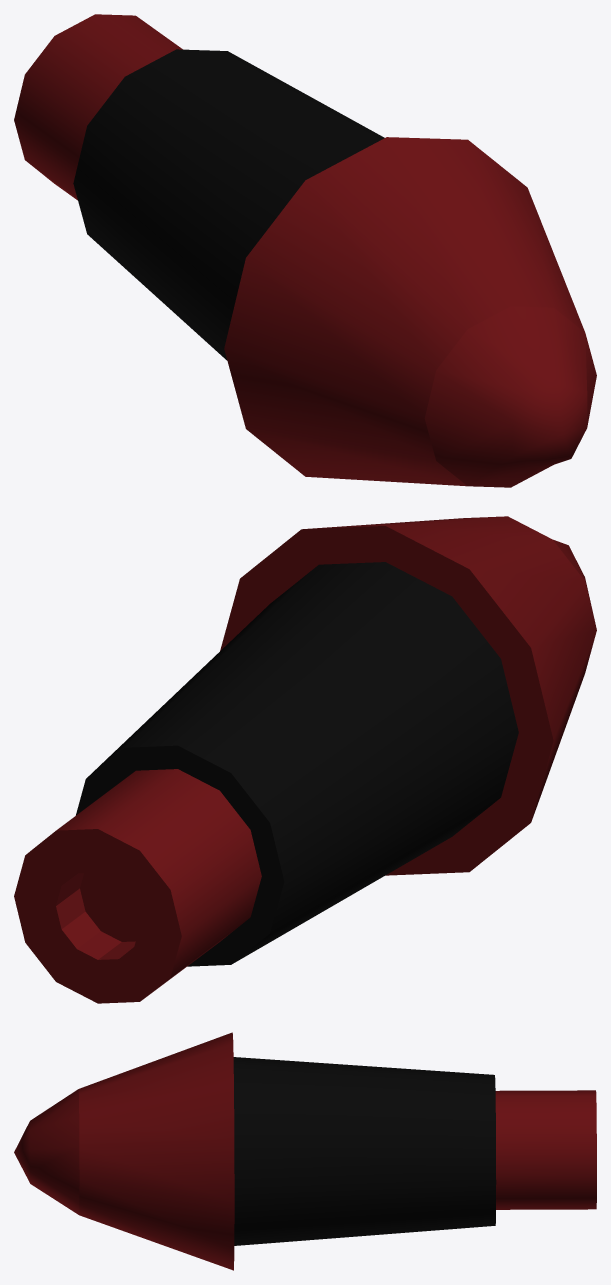
File: ROCKET_GUN_BULLET_00I.fbx
The picture shows the model from 3 angles, top to bottom: view 1: azimuth 30°, elevation 25°; view 2: azimuth 150°, elevation 25°; view 3: azimuth 270°, elevation 25°; orthographic projection. The views are drawn at different scales.
Parts seen in each view (by area): view 1: ROCKET_GUN_BULLET_00I; view 2: ROCKET_GUN_BULLET_00I; view 3: ROCKET_GUN_BULLET_00I.
Part boxes in pixels (x1,y1,x2,y2): ROCKET_GUN_BULLET_00I: (14,14,596,487); ROCKET_GUN_BULLET_00I: (14,516,596,1003); ROCKET_GUN_BULLET_00I: (14,1032,596,1270).
Size of the model in its own units: 0.1995 by 0.1996 by 0.4862.
